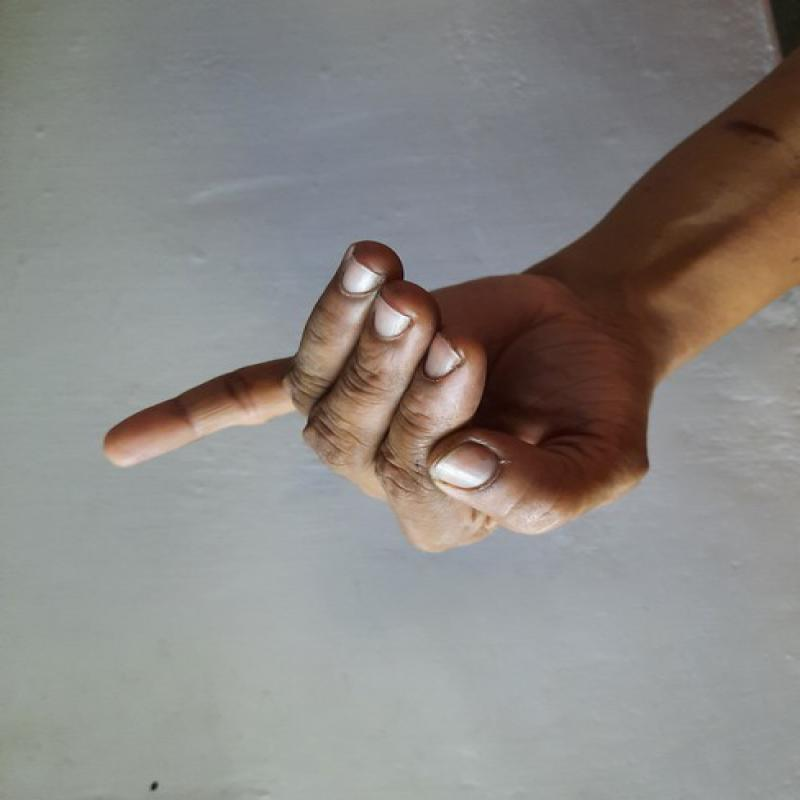Kartharee Mukham: (88, 214, 673, 567)
